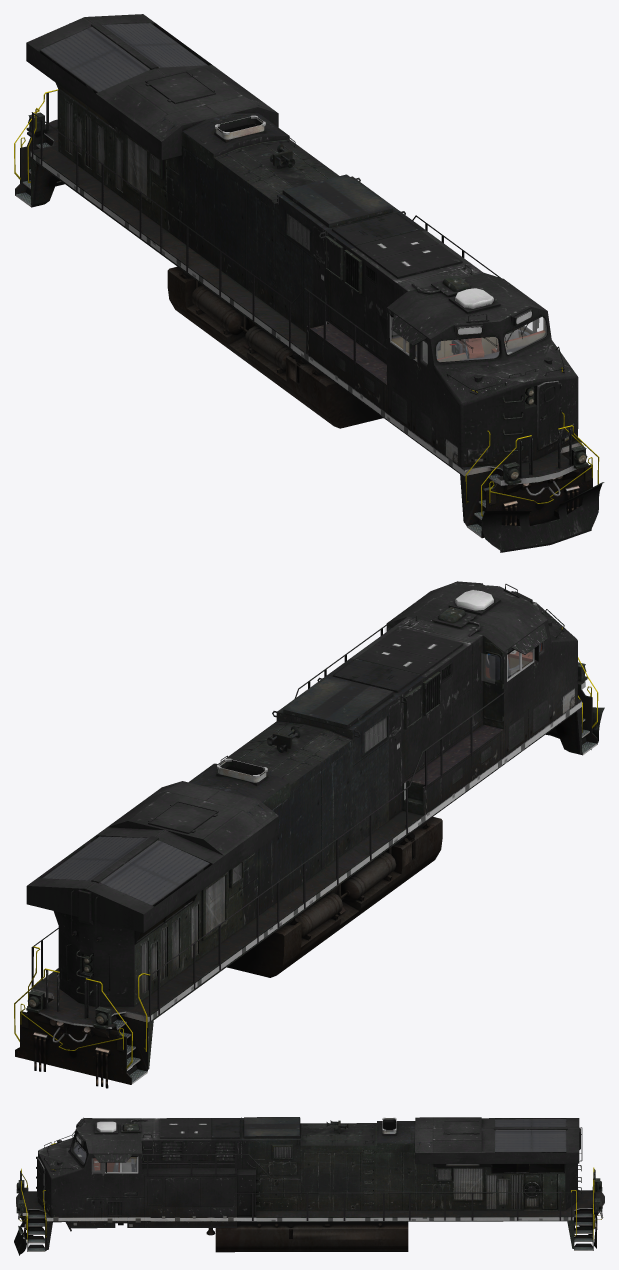
The model's file is body_black.glb.
The picture shows the model from 3 angles, top to bottom: view 1: azimuth 30°, elevation 25°; view 2: azimuth 150°, elevation 25°; view 3: azimuth 270°, elevation 25°; orthographic projection. The views are drawn at different scales.
Visible parts, largest first — view 1: DrawCall_0027_6, DrawCall_0028_41, DrawCall_0029_8, DrawCall_0030_10, DrawCall_0026_4, DrawCall_0152_24; view 2: DrawCall_0027_6, DrawCall_0028_41, DrawCall_0029_8, DrawCall_0030_10, DrawCall_0026_4, DrawCall_0152_24; view 3: DrawCall_0027_6, DrawCall_0028_41, DrawCall_0029_8, DrawCall_0030_10, DrawCall_0152_24, DrawCall_0026_4.
Boxes of the visible parts, box(x1,y1,x2,y2) form: DrawCall_0027_6: box(26, 14, 578, 522); DrawCall_0028_41: box(30, 90, 604, 552); DrawCall_0029_8: box(14, 72, 599, 537); DrawCall_0030_10: box(16, 23, 500, 535); DrawCall_0026_4: box(391, 317, 545, 364); DrawCall_0152_24: box(392, 317, 546, 362); DrawCall_0027_6: box(27, 583, 581, 1020); DrawCall_0028_41: box(15, 607, 604, 1084); DrawCall_0029_8: box(14, 581, 598, 1088); DrawCall_0030_10: box(42, 718, 596, 1082); DrawCall_0026_4: box(485, 642, 543, 679); DrawCall_0152_24: box(385, 628, 539, 683); DrawCall_0027_6: box(20, 1117, 595, 1249); DrawCall_0028_41: box(14, 1117, 581, 1255); DrawCall_0029_8: box(16, 1117, 604, 1252); DrawCall_0030_10: box(28, 1119, 592, 1250); DrawCall_0152_24: box(73, 1140, 137, 1173); DrawCall_0026_4: box(74, 1143, 137, 1171).
Bounding box in the file's own units: 3.47 × 4.89 × 21.77.
7 materials, 6 textured.
